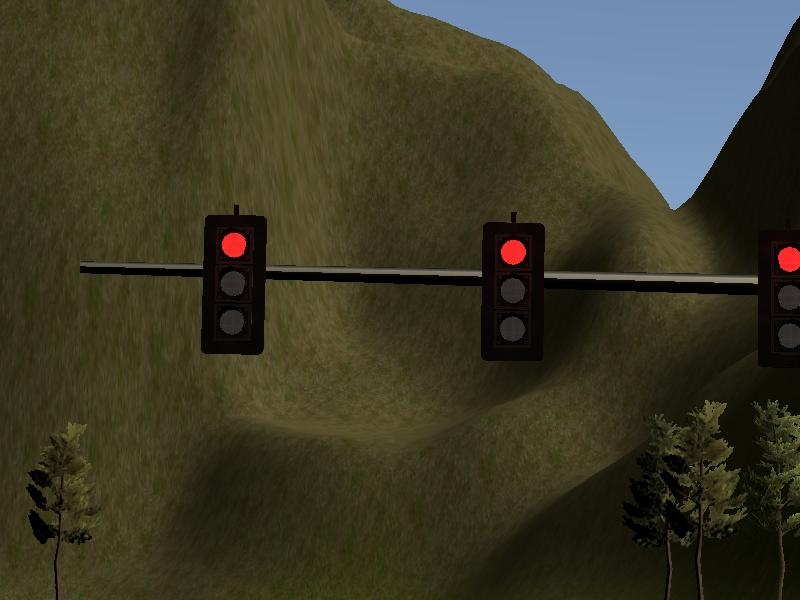RED: (200, 216, 265, 355), (481, 226, 546, 365), (758, 235, 800, 376)
